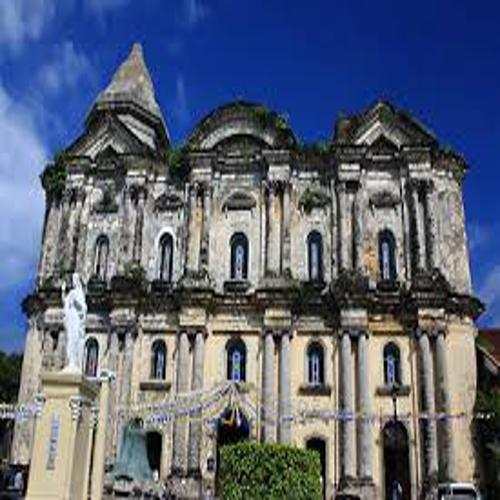Taal Basilica Church: (15, 36, 483, 500)
